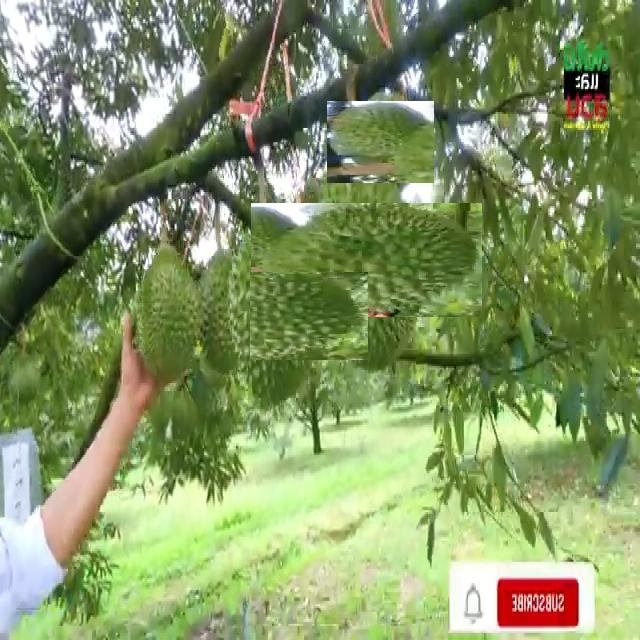durian: (280, 173, 453, 347), (199, 245, 341, 388), (132, 242, 204, 390), (334, 95, 428, 189), (194, 243, 250, 380)
